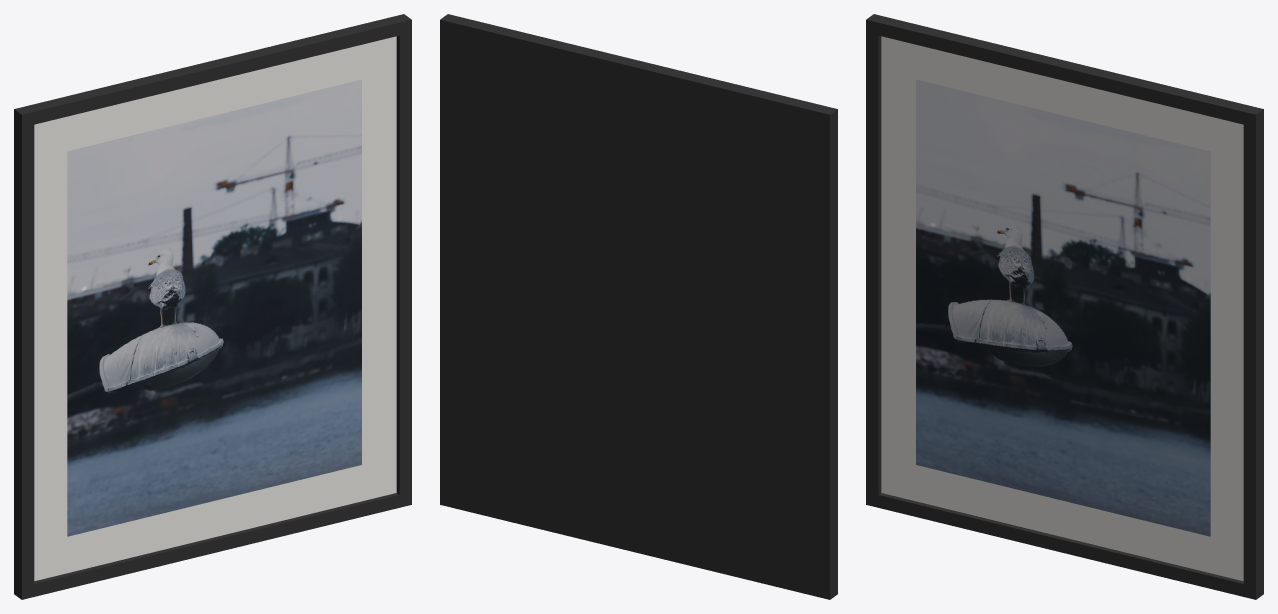
Rendered from masen-60.gltf.
3 renders of one model, left to right at view 1: azimuth 30°, elevation 25°; view 2: azimuth 150°, elevation 25°; view 3: azimuth 330°, elevation 25°, orthographic.
Parts seen in each view (by area): view 1: tavla; view 2: tavla; view 3: tavla.
Boxes of the visible parts, x1,y1,x2,y2 form: tavla: (14, 14, 411, 599); tavla: (440, 14, 837, 599); tavla: (866, 14, 1263, 599).
Size of the model in its own units: 0.6353 by 0.7552 by 0.022.
Materials: 3 (1 with a texture image).
